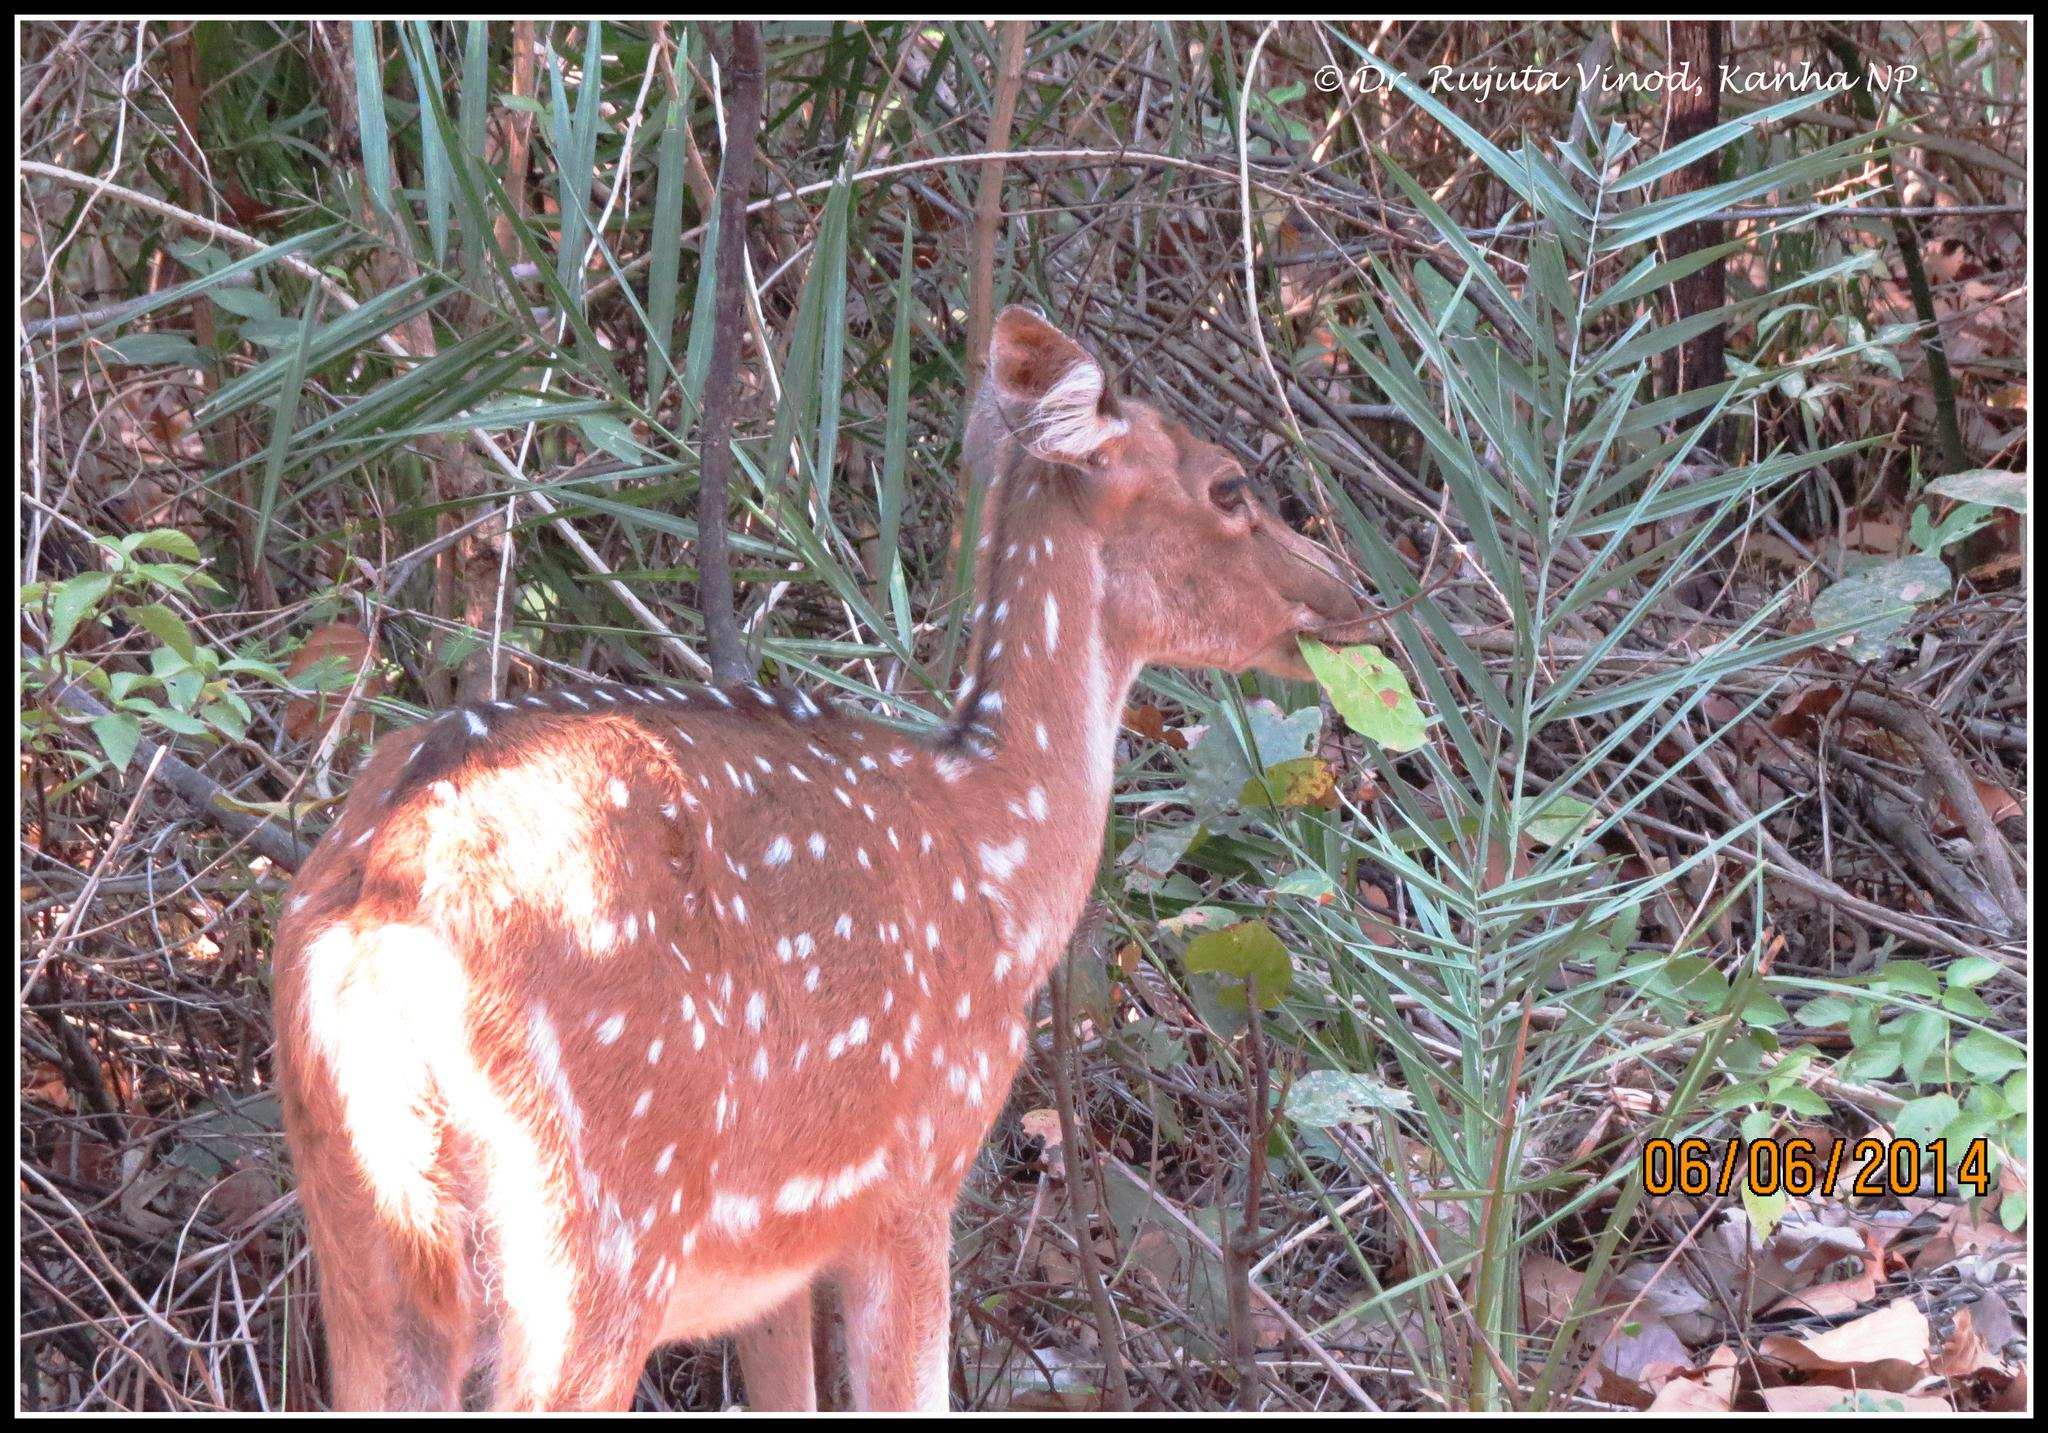Deer: (275, 308, 1371, 1410)
